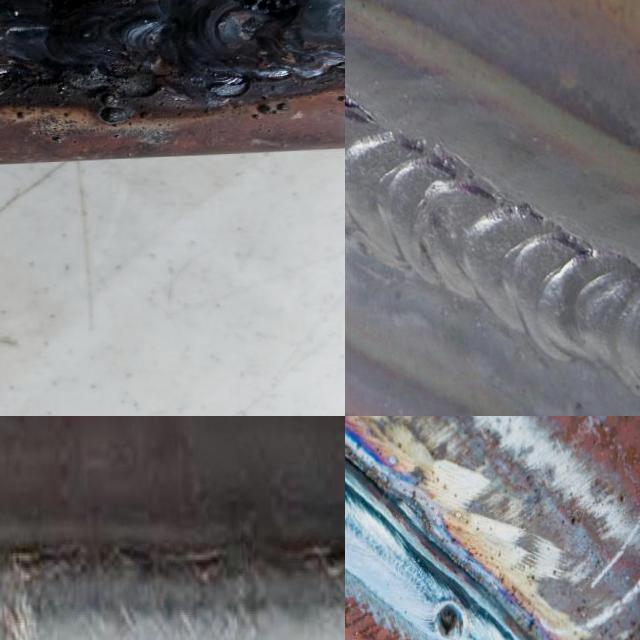defect: (433, 597, 464, 639), (227, 0, 301, 14)
